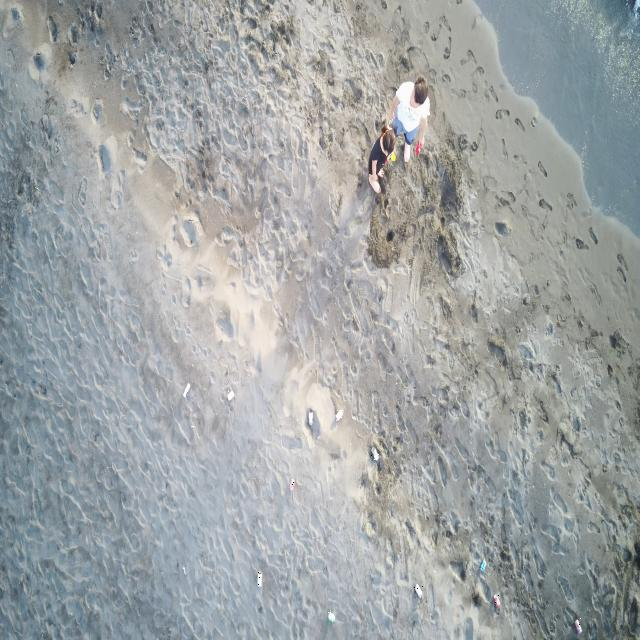Garbage: (306, 408, 319, 437), (369, 446, 379, 462), (413, 583, 422, 599), (492, 594, 499, 612), (307, 408, 313, 427), (573, 617, 580, 633), (335, 408, 343, 422), (327, 609, 335, 623), (415, 141, 422, 156), (183, 384, 190, 396), (480, 559, 486, 572), (191, 424, 198, 435), (288, 479, 295, 489), (388, 151, 395, 160), (227, 390, 233, 400), (181, 564, 186, 575), (256, 571, 259, 587), (191, 424, 195, 430)
